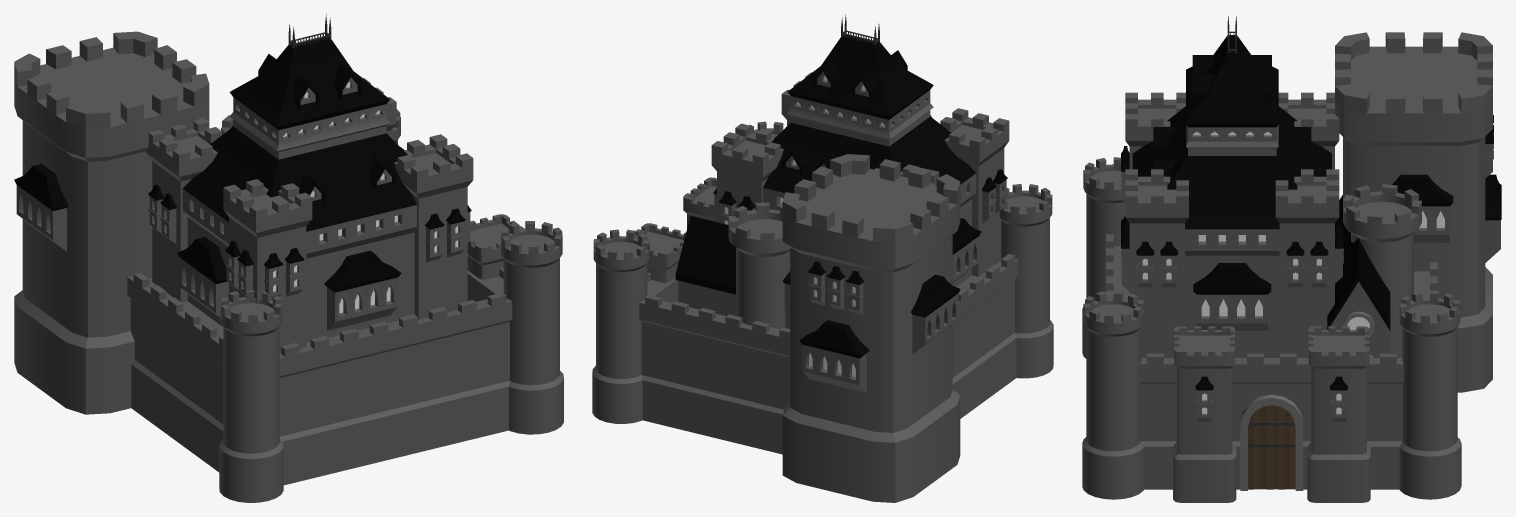
File: EnemyCastle.fbx
3 renders of one model, left to right at view 1: azimuth 30°, elevation 25°; view 2: azimuth 150°, elevation 25°; view 3: azimuth 270°, elevation 25°, orthographic. The views are drawn at different scales.
Visible parts, largest first — view 1: Castle; view 2: Castle; view 3: Castle.
Boxes of the visible parts, bbox=[...] form: Castle: bbox=[14, 14, 563, 502]; Castle: bbox=[592, 14, 1053, 502]; Castle: bbox=[1082, 16, 1501, 502].
Bounding box in the file's own units: 54.7 × 54 × 53.1.
